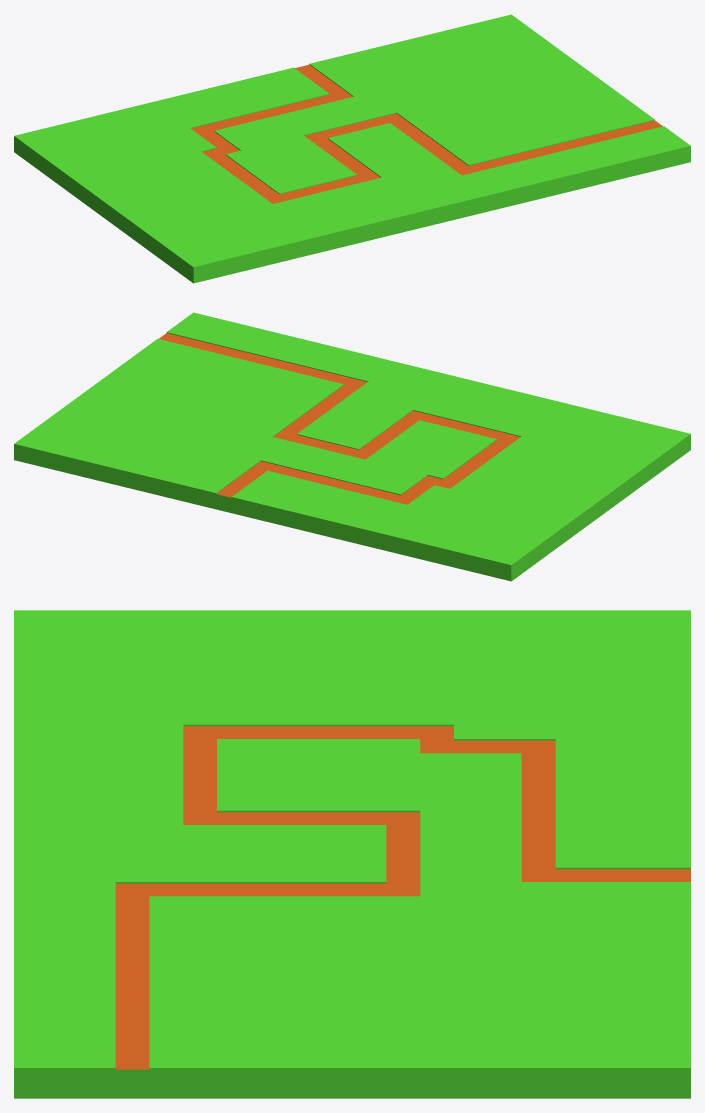
File: Grass Plains lvl 1 TDP 1.fbx
3 views of the same model, one above another, from view 1: azimuth 30°, elevation 25°; view 2: azimuth 150°, elevation 25°; view 3: azimuth 270°, elevation 25° (orthographic). The views are drawn at different scales.
Parts seen in each view (by area): view 1: Field, Track; view 2: Field, Track; view 3: Field, Track.
Part boxes in pixels (<box>): Field: <box>14,14,690,283</box>; Track: <box>191,64,662,203</box>; Field: <box>14,312,690,581</box>; Track: <box>159,333,520,504</box>; Field: <box>14,610,690,1098</box>; Track: <box>115,726,690,1069</box>.
Bounding box in the file's own units: 3200 × 100 × 2000.
